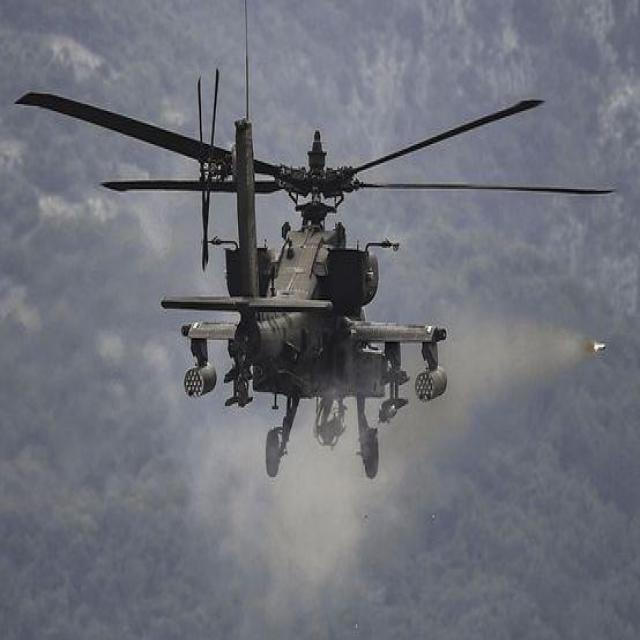MIL_HELO: (11, 61, 617, 488)
